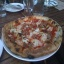pizza: (4, 15, 63, 53)
